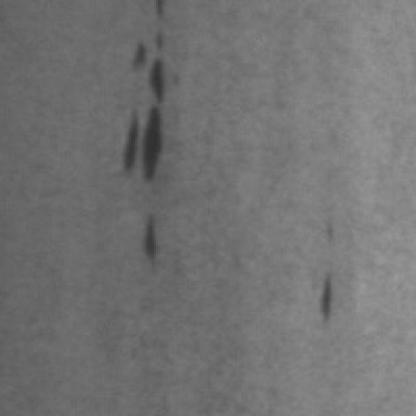inclusion: (118, 0, 166, 181), (308, 266, 337, 327), (133, 206, 160, 270)
